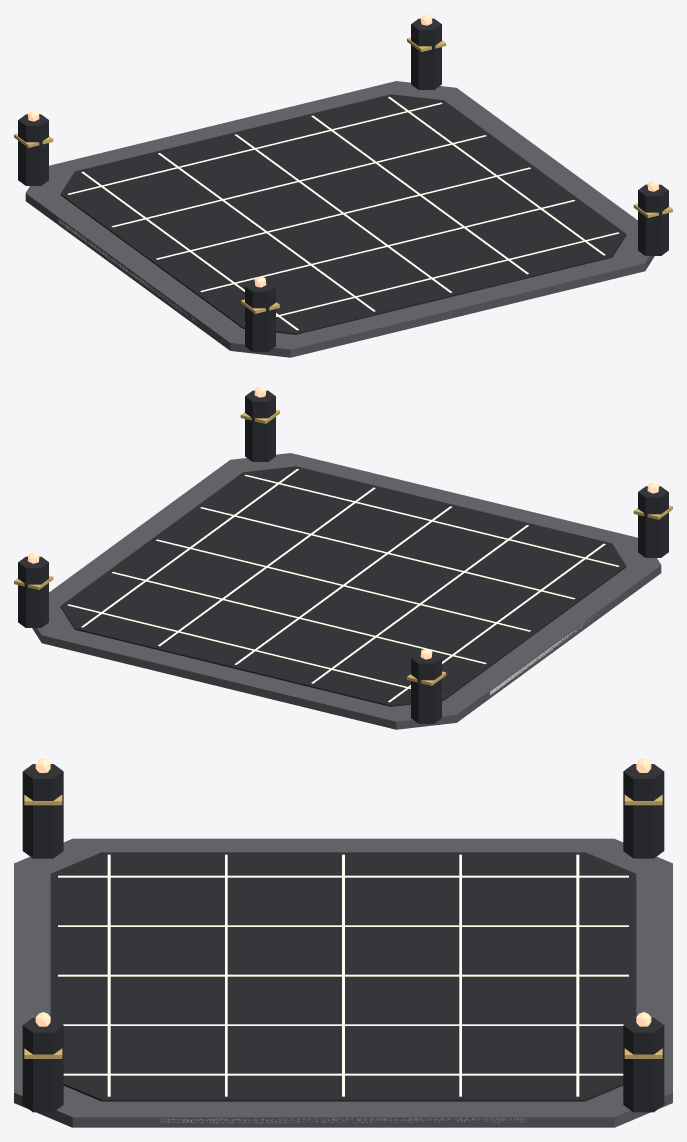
The model's file is Build_AegisPadLarge.fbx.
3 views of the same model, one above another, from view 1: azimuth 30°, elevation 25°; view 2: azimuth 150°, elevation 25°; view 3: azimuth 270°, elevation 25° (orthographic). The views are drawn at different scales.
Visible parts, largest first — view 1: BPL_Inner, BPL_Slab, BPL_Pylon1, BPL_Pylon0, BPL_Pylon3, BPL_Pylon2, BPL_GridY2, BPL_GridY1, BPL_GridY0, BPL_GridY-1, BPL_GridY-2, BPL_GridX1 (+4 smaller); view 2: BPL_Inner, BPL_Slab, BPL_Pylon3, BPL_Pylon1, BPL_Pylon2, BPL_Pylon0, BPL_GridY0, BPL_GridY-1, BPL_GridY-2, BPL_GridY1, BPL_GridY2, BPL_GridX1 (+4 smaller); view 3: BPL_Inner, BPL_Slab, BPL_Pylon0, BPL_Pylon2, BPL_Pylon1, BPL_Pylon3, BPL_GridX-2, BPL_GridX0, BPL_GridX2, BPL_GridX-1, BPL_GridX1, BPL_GridY2 (+4 smaller).
Part boxes in pixels (x1=…): BPL_Inner: x1=60, y1=94, x2=626, y2=334; BPL_Slab: x1=25, y1=81, x2=654, y2=357; BPL_Pylon1: x1=18, y1=114, x2=48, y2=185; BPL_Pylon0: x1=411, y1=18, x2=441, y2=89; BPL_Pylon3: x1=245, y1=280, x2=275, y2=351; BPL_Pylon2: x1=638, y1=184, x2=668, y2=255; BPL_GridY2: x1=68, y1=102, x2=442, y2=194; BPL_GridY1: x1=111, y1=135, x2=486, y2=227; BPL_GridY0: x1=156, y1=167, x2=530, y2=259; BPL_GridY-1: x1=200, y1=200, x2=574, y2=292; BPL_GridY-2: x1=244, y1=232, x2=619, y2=323; BPL_GridX1: x1=311, y1=115, x2=528, y2=274; BPL_Inner: x1=60, y1=466, x2=626, y2=706; BPL_Slab: x1=32, y1=453, x2=661, y2=729; BPL_Pylon3: x1=638, y1=486, x2=668, y2=557; BPL_Pylon1: x1=411, y1=652, x2=441, y2=723; BPL_Pylon2: x1=245, y1=390, x2=275, y2=461; BPL_Pylon0: x1=18, y1=556, x2=48, y2=627; BPL_GridY0: x1=156, y1=539, x2=530, y2=631; BPL_GridY-1: x1=200, y1=507, x2=575, y2=599; BPL_GridY-2: x1=244, y1=474, x2=618, y2=566; BPL_GridY1: x1=112, y1=572, x2=486, y2=664; BPL_GridY2: x1=67, y1=604, x2=442, y2=695; BPL_GridX1: x1=158, y1=487, x2=375, y2=646; BPL_Inner: x1=50, y1=852, x2=636, y2=1101; BPL_Slab: x1=14, y1=838, x2=672, y2=1127; BPL_Pylon0: x1=623, y1=1017, x2=664, y2=1112; BPL_Pylon2: x1=22, y1=1017, x2=63, y2=1112; BPL_Pylon1: x1=623, y1=764, x2=664, y2=858; BPL_Pylon3: x1=22, y1=764, x2=63, y2=858; BPL_GridX-2: x1=58, y1=875, x2=628, y2=877; BPL_GridX0: x1=58, y1=974, x2=628, y2=976; BPL_GridX2: x1=63, y1=1073, x2=623, y2=1075; BPL_GridX-1: x1=58, y1=925, x2=628, y2=926; BPL_GridX1: x1=63, y1=1024, x2=623, y2=1025; BPL_GridY2: x1=576, y1=854, x2=579, y2=1096.
Size of the model in its own units: 4.5 by 0.78 by 4.5.
